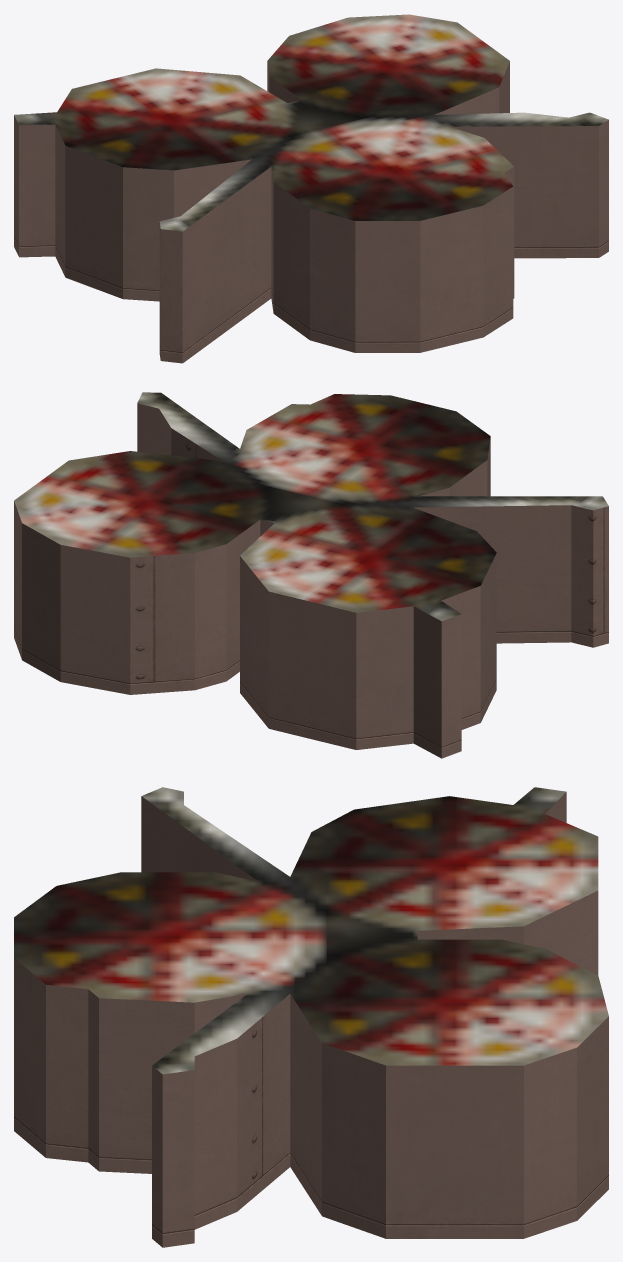
The model's file is fuel_tank_heavy_52.glb.
The picture shows the model from 3 angles, top to bottom: view 1: azimuth 30°, elevation 25°; view 2: azimuth 150°, elevation 25°; view 3: azimuth 270°, elevation 25°; orthographic projection. The views are drawn at different scales.
Parts seen in each view (by area): view 1: buildings/saxarba/fuel_tanks/fuel_tank_heavy_52; view 2: buildings/saxarba/fuel_tanks/fuel_tank_heavy_52; view 3: buildings/saxarba/fuel_tanks/fuel_tank_heavy_52.
Part boxes in pixels (bbox=[...]): buildings/saxarba/fuel_tanks/fuel_tank_heavy_52: bbox=[14, 14, 608, 363]; buildings/saxarba/fuel_tanks/fuel_tank_heavy_52: bbox=[14, 392, 608, 758]; buildings/saxarba/fuel_tanks/fuel_tank_heavy_52: bbox=[14, 787, 608, 1247].
Size of the model in its own units: 64 by 18 by 56.
